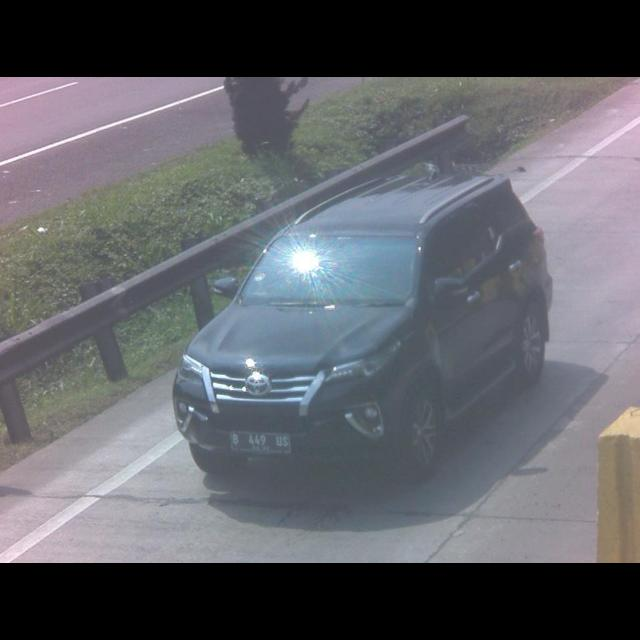plate: (228, 429, 292, 455)
